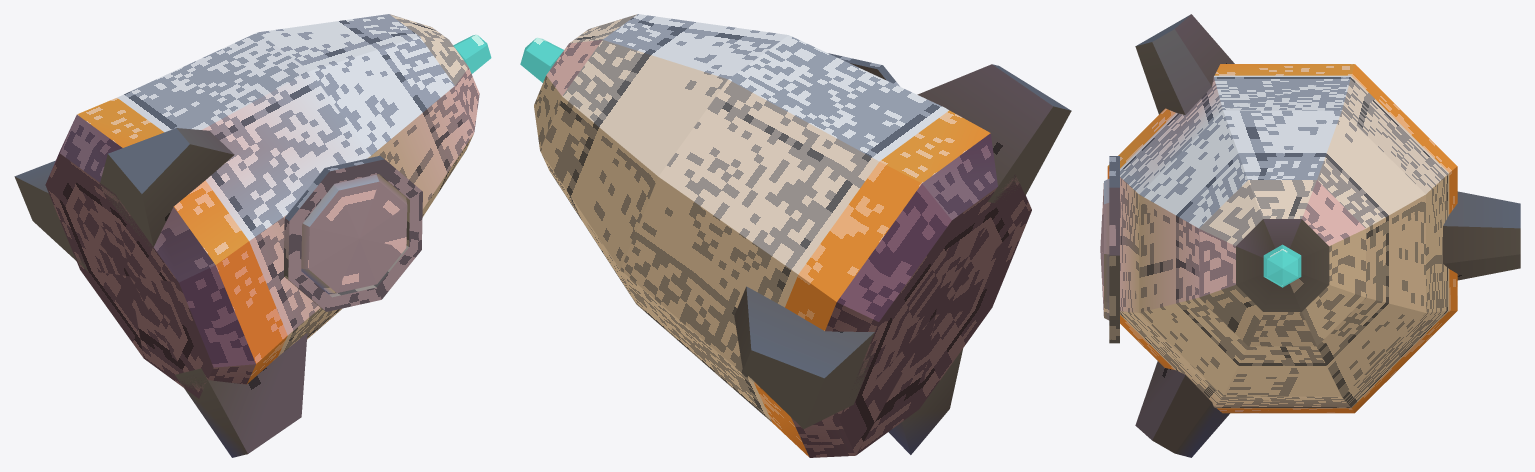
File: ship.escape_pod__crashed.glb
3 views of the same model, side by side, from view 1: azimuth 30°, elevation 25°; view 2: azimuth 150°, elevation 25°; view 3: azimuth 270°, elevation 25° (orthographic). The views are drawn at different scales.
Parts seen in each view (by area): view 1: kit_body, kit_fins, kit_hatch, kit_hatch_ring, kit_beacon; view 2: kit_body, kit_fins, kit_beacon, kit_hatch_ring; view 3: kit_body, kit_fins, kit_hatch_ring, kit_beacon, kit_hatch.
Part boxes in pixels (x1=…): kit_body: x1=45, y1=14, x2=479, y2=398; kit_fins: x1=14, y1=128, x2=307, y2=457; kit_hatch: x1=301, y1=174, x2=407, y2=294; kit_hatch_ring: x1=284, y1=156, x2=422, y2=311; kit_beacon: x1=453, y1=34, x2=491, y2=73; kit_body: x1=534, y1=14, x2=1031, y2=457; kit_fins: x1=734, y1=64, x2=1071, y2=454; kit_beacon: x1=520, y1=37, x2=563, y2=82; kit_hatch_ring: x1=828, y1=53, x2=899, y2=86; kit_body: x1=1107, y1=64, x2=1457, y2=413; kit_fins: x1=1135, y1=14, x2=1520, y2=457; kit_hatch_ring: x1=1109, y1=156, x2=1119, y2=343; kit_beacon: x1=1263, y1=244, x2=1301, y2=287; kit_hatch: x1=1100, y1=179, x2=1109, y2=320.
Size of the model in its own units: 3.02 by 2.43 by 2.33.
Materials: 7 (7 with a texture image).
